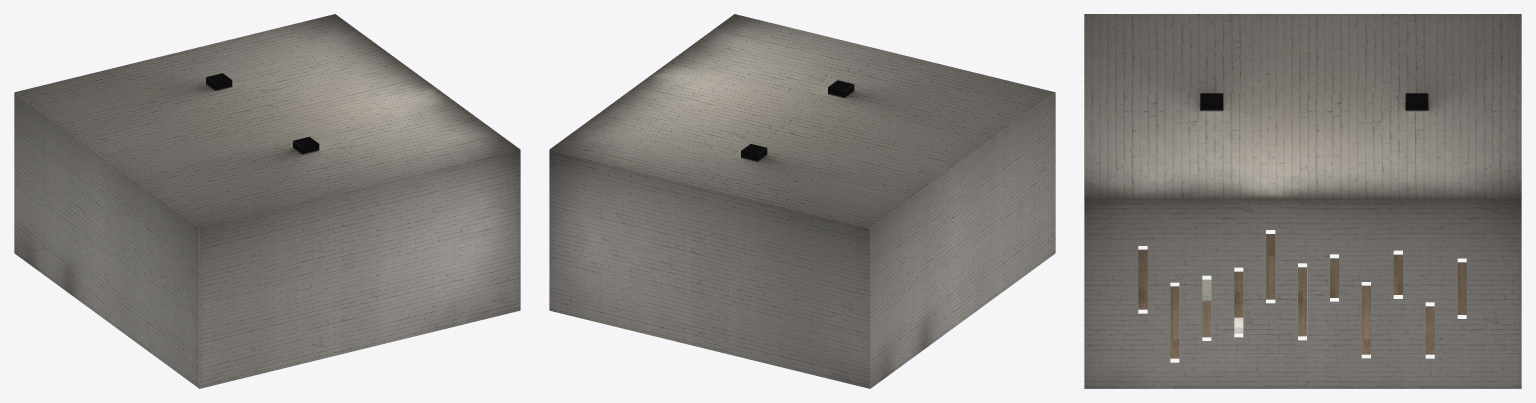
3 renders of one model, left to right at view 1: azimuth 30°, elevation 25°; view 2: azimuth 150°, elevation 25°; view 3: azimuth 270°, elevation 25°, orthographic. The views are drawn at different scales.
Visible parts, largest first — view 1: Walls; view 2: Walls; view 3: Walls, Floor, Cube_Instance, Cube_3.
Part boxes in pixels (x1,y1,x2,y2): Walls: (14, 14, 520, 388); Walls: (549, 14, 1055, 388); Walls: (1084, 14, 1521, 388); Floor: (1138, 234, 1466, 358); Cube_Instance: (1200, 93, 1223, 301); Cube_3: (1405, 93, 1428, 111).
Bounding box in the file's own units: 8.13 × 3.98 × 7.96.
Materials: 6 (6 with a texture image).
